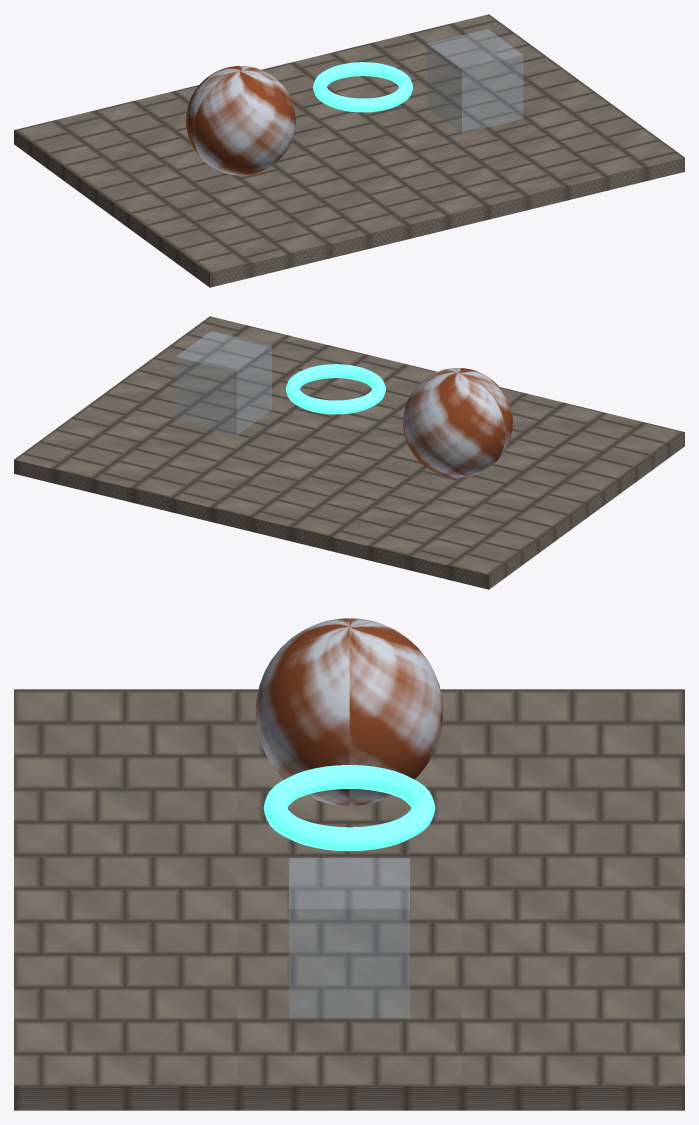
The model's file is shelf.glb.
3 renders of one model, top to bottom at view 1: azimuth 30°, elevation 25°; view 2: azimuth 150°, elevation 25°; view 3: azimuth 270°, elevation 25°, orthographic. The views are drawn at different scales.
Parts seen in each view (by area): view 1: stone_slab, rust_ball, glass_cube, neon_ring; view 2: stone_slab, rust_ball, glass_cube, neon_ring; view 3: stone_slab, rust_ball, glass_cube, neon_ring.
Boxes of the visible parts, x1,y1,x2,y2 form: stone_slab: [14, 14, 684, 287]; rust_ball: [186, 66, 295, 175]; glass_cube: [427, 29, 522, 133]; neon_ring: [313, 62, 412, 112]; stone_slab: [14, 316, 684, 589]; rust_ball: [403, 368, 512, 477]; glass_cube: [176, 331, 271, 435]; neon_ring: [286, 364, 385, 414]; stone_slab: [14, 689, 684, 1110]; rust_ball: [255, 618, 443, 805]; glass_cube: [289, 858, 409, 1017]; neon_ring: [263, 765, 435, 851].
Size of the model in its own units: 7 by 1.6 by 5.
4 materials, 2 textured.
